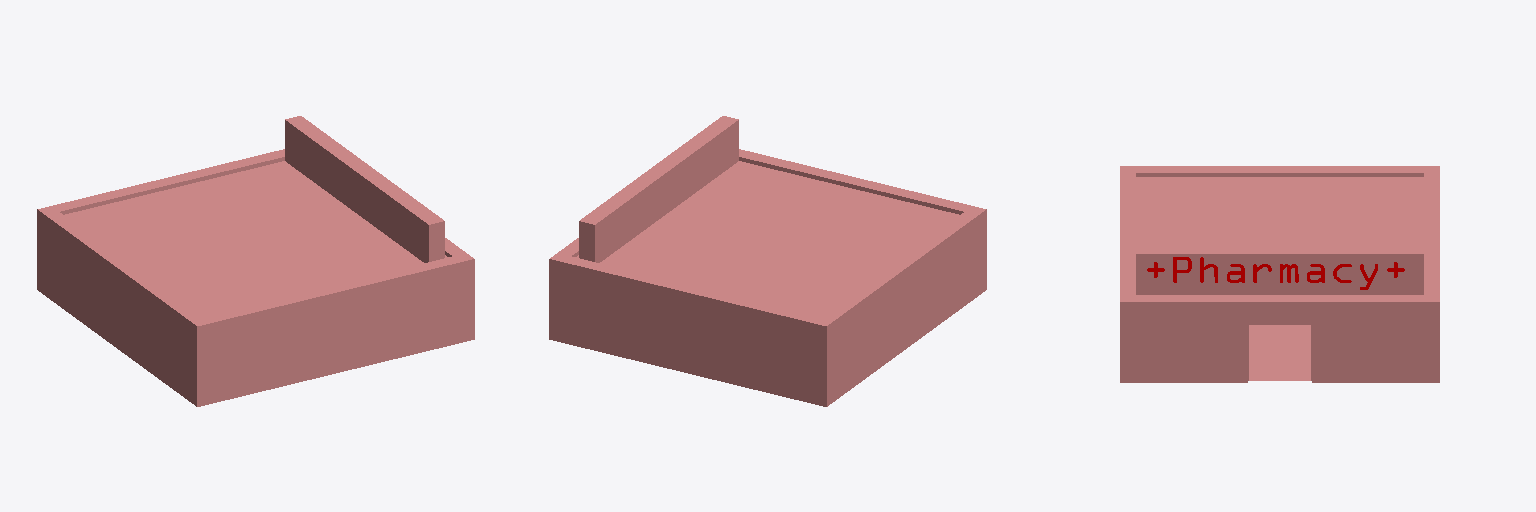
Rendered from Pharmacy_003.obj.
3 renders of one model, left to right at view 1: azimuth 30°, elevation 25°; view 2: azimuth 150°, elevation 25°; view 3: azimuth 270°, elevation 25°, orthographic.
Visible parts, largest first — view 1: walls___roof; view 2: walls___roof; view 3: walls___roof, Floor, Text001.
Boxes of the visible parts, x1,y1,x2,y2 form: walls___roof: [37, 116, 474, 406]; walls___roof: [549, 116, 986, 406]; walls___roof: [1120, 166, 1439, 382]; Floor: [1249, 325, 1310, 380]; Text001: [1147, 257, 1404, 289].
Size of the model in its own units: 140 by 57.13 by 140.